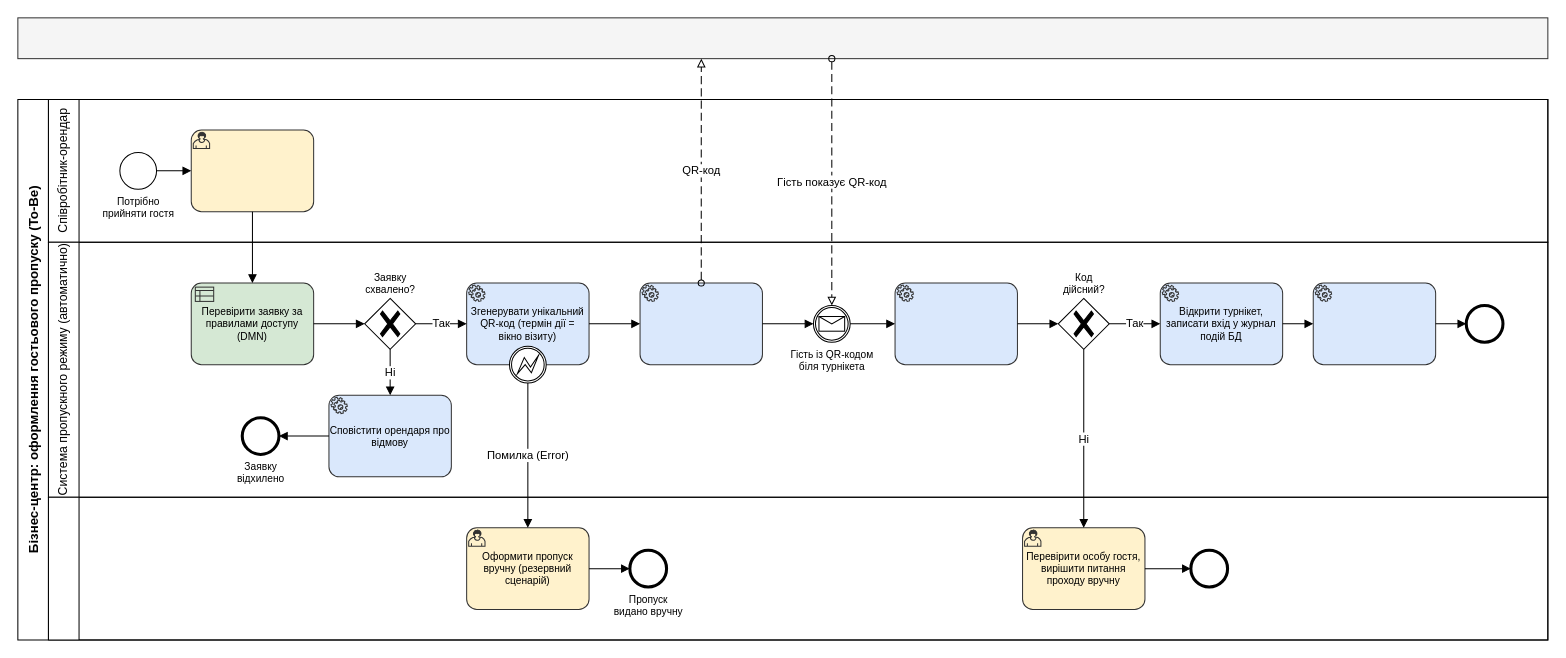
The diagram is 1566 pixels wide and 658 high, and some of its shapes have lost their labels. Each missing label, with the box of its shape:
Валідувати QR-код через API турнікета: (894, 282, 1017, 365)
Виняток оброблено: (1190, 549, 1228, 587)
Гість (зовнішній учасник, «чорна скринька»): (17, 17, 1548, 59)
Гість пройшов: (1465, 304, 1503, 342)
Надіслати QR-код гостю (e-mail / SMS / месенджер): (639, 282, 762, 365)
Охоронець (лише винятки): (47, 496, 1548, 640)
Сповістити орендаря про прихід гостя (push / e-mail): (1312, 282, 1436, 365)
Створити заявку на гостьовий пропуск у порталі (ПІБ, контакт, дата візиту): (190, 129, 314, 212)
